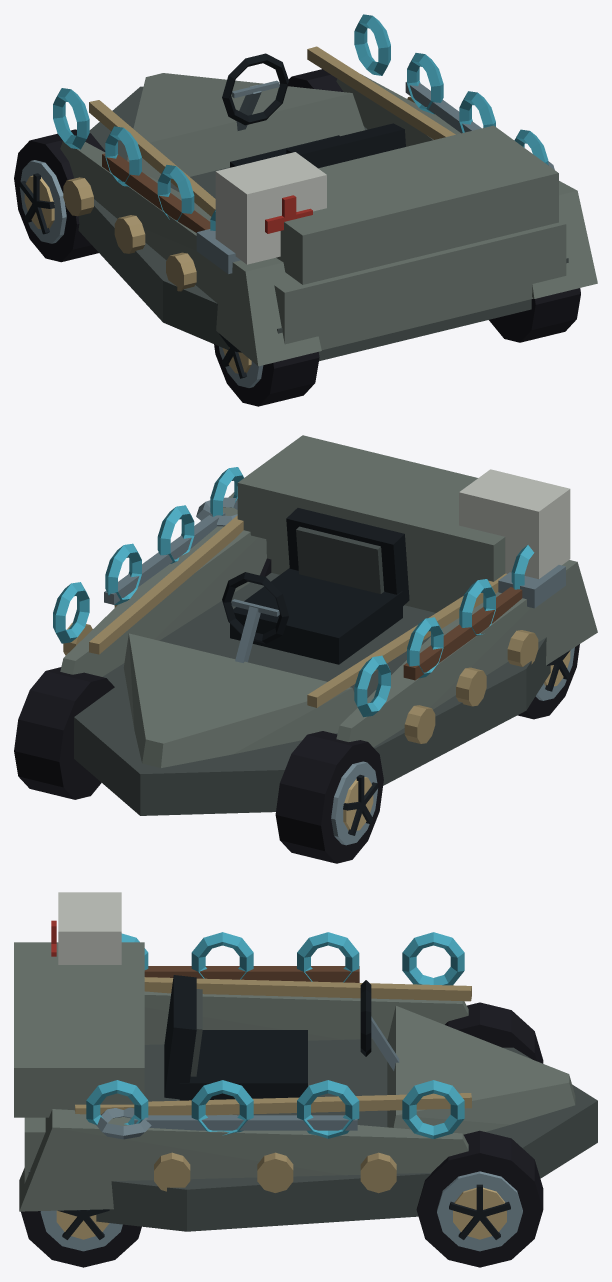
File: kart.glb
3 renders of one model, top to bottom at view 1: azimuth 30°, elevation 25°; view 2: azimuth 150°, elevation 25°; view 3: azimuth 270°, elevation 25°, orthographic.
Visible parts, largest first — view 1: identity-ship-ship-pointed-bow-and-raised-stern, identity-ship-motif-medical, identity-ship-motif-water, wheel-front-left, identity-ship-driver-cockpit, identity-ship-motif-tools, wheel-rear-left, wheel-rear-right, wheel-front-right; view 2: identity-ship-ship-pointed-bow-and-raised-stern, identity-ship-driver-cockpit, wheel-front-left, identity-ship-motif-water, identity-ship-motif-medical, wheel-front-right, identity-ship-motif-tools, wheel-rear-left; view 3: identity-ship-ship-pointed-bow-and-raised-stern, wheel-front-right, identity-ship-driver-cockpit, identity-ship-motif-water, identity-ship-motif-tools, identity-ship-motif-medical, wheel-rear-right, wheel-front-left.
Part boxes in pixels (<box>): identity-ship-ship-pointed-bow-and-raised-stern: <box>60,46,597,366</box>; identity-ship-motif-medical: <box>215,152,326,264</box>; identity-ship-motif-water: <box>53,14,548,230</box>; wheel-front-left: <box>14,129,105,262</box>; identity-ship-driver-cockpit: <box>222,53,405,168</box>; identity-ship-motif-tools: <box>102,82,554,273</box>; wheel-rear-left: <box>214,333,319,406</box>; wheel-rear-right: <box>489,288,580,342</box>; wheel-front-right: <box>288,69,343,91</box>; identity-ship-ship-pointed-bow-and-raised-stern: <box>60,435,597,815</box>; identity-ship-driver-cockpit: <box>222,508,409,664</box>; wheel-front-left: <box>275,731,383,863</box>; identity-ship-motif-water: <box>53,467,534,717</box>; identity-ship-motif-medical: <box>459,469,570,579</box>; wheel-front-right: <box>14,667,114,799</box>; identity-ship-motif-tools: <box>104,497,565,680</box>; wheel-rear-left: <box>517,644,579,719</box>; identity-ship-ship-pointed-bow-and-raised-stern: <box>14,942,597,1231</box>; wheel-front-right: <box>416,1130,543,1267</box>; identity-ship-driver-cockpit: <box>164,975,399,1100</box>; identity-ship-motif-water: <box>86,932,464,1138</box>; identity-ship-motif-tools: <box>96,966,359,1139</box>; identity-ship-motif-medical: <box>51,892,121,964</box>; wheel-rear-right: <box>21,1209,141,1267</box>; wheel-front-left: <box>445,1002,543,1063</box>.
Size of the model in its own units: 2 by 1.15 by 2.77.
